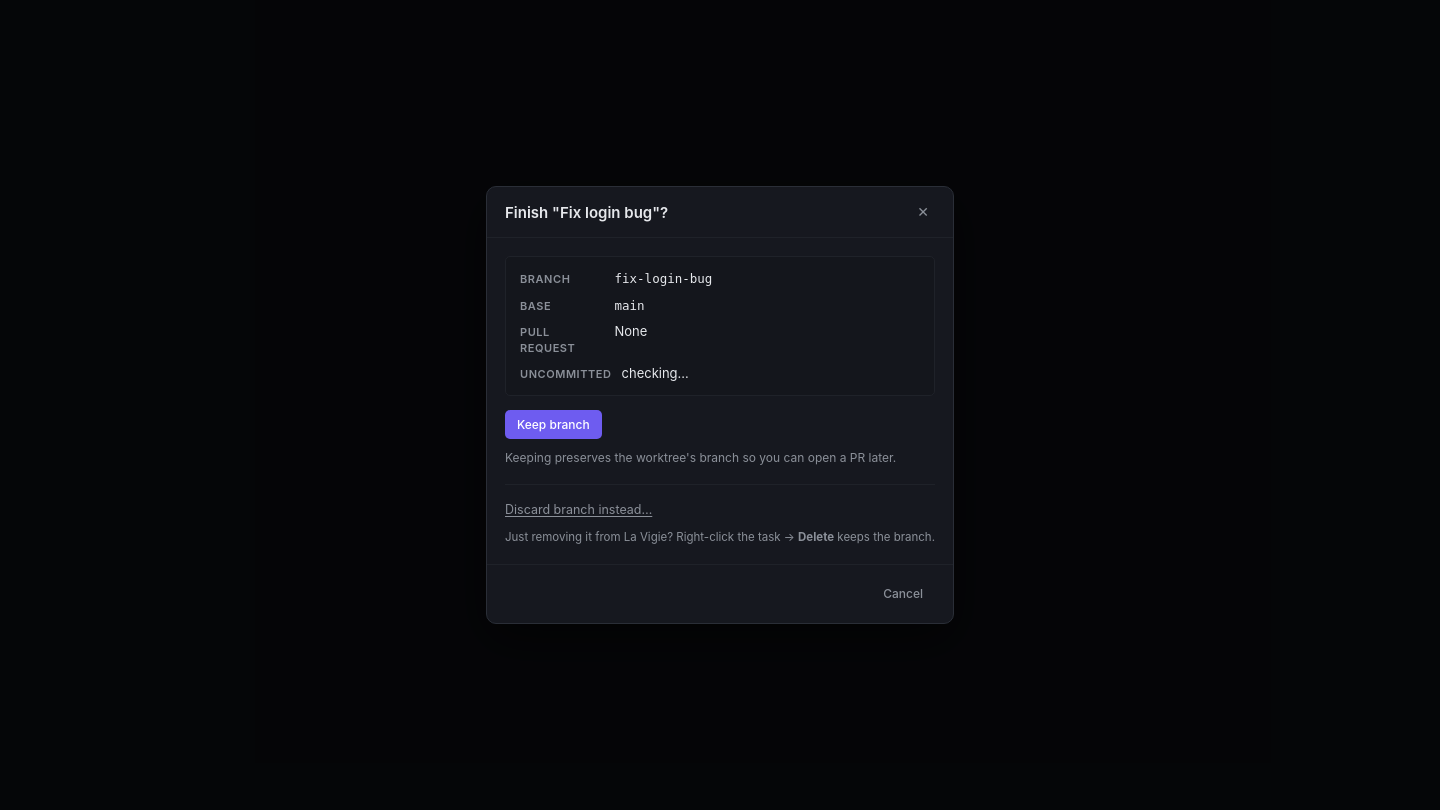
Test: FinishTaskModal — guarded Discard › Back un-arms the confirm without finishing
Step 1. Click the button "Discard branch instead…" → [579, 510], box left=505, top=499, right=652, bottom=521
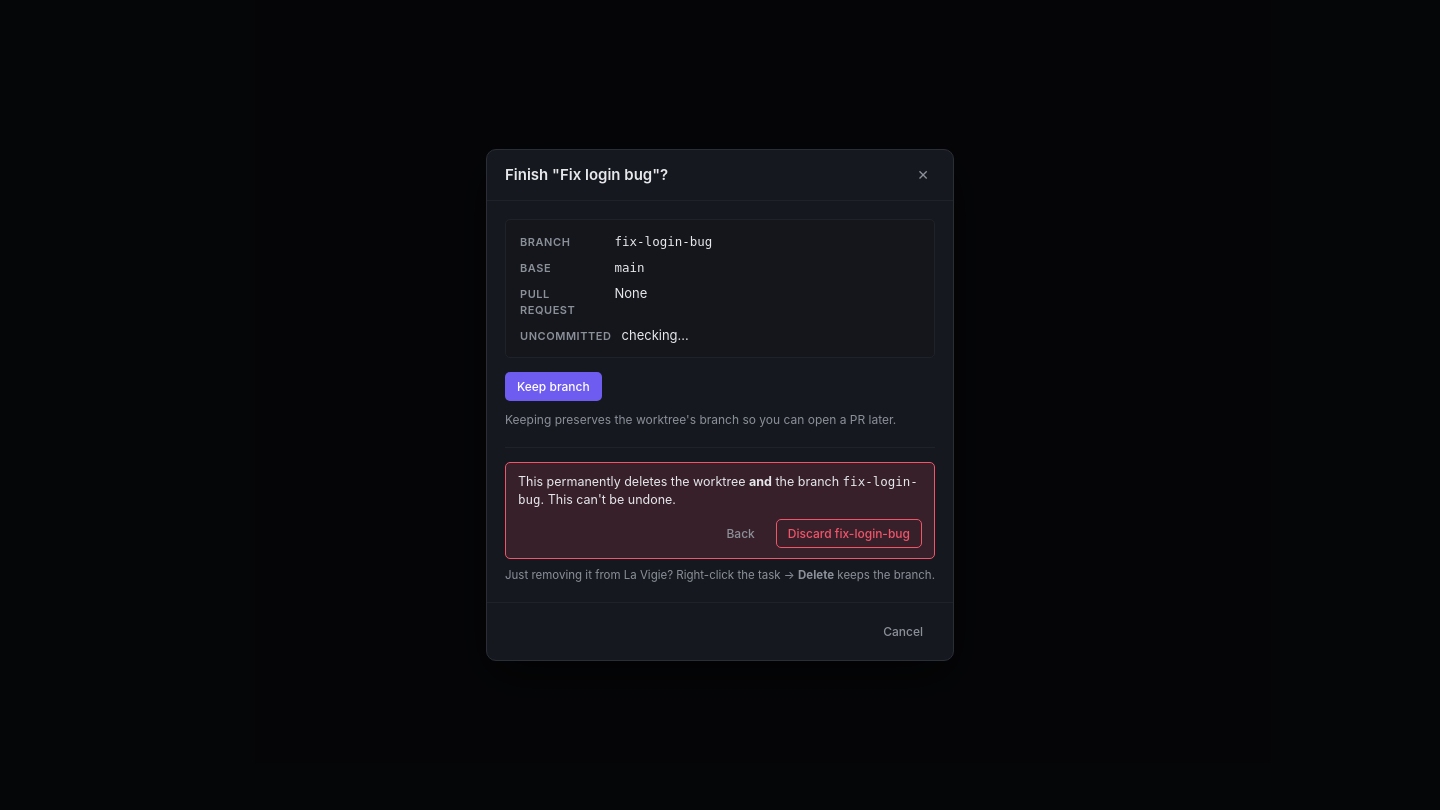
Step 2. Click the button "Back" → [741, 534], box left=714, top=519, right=767, bottom=548
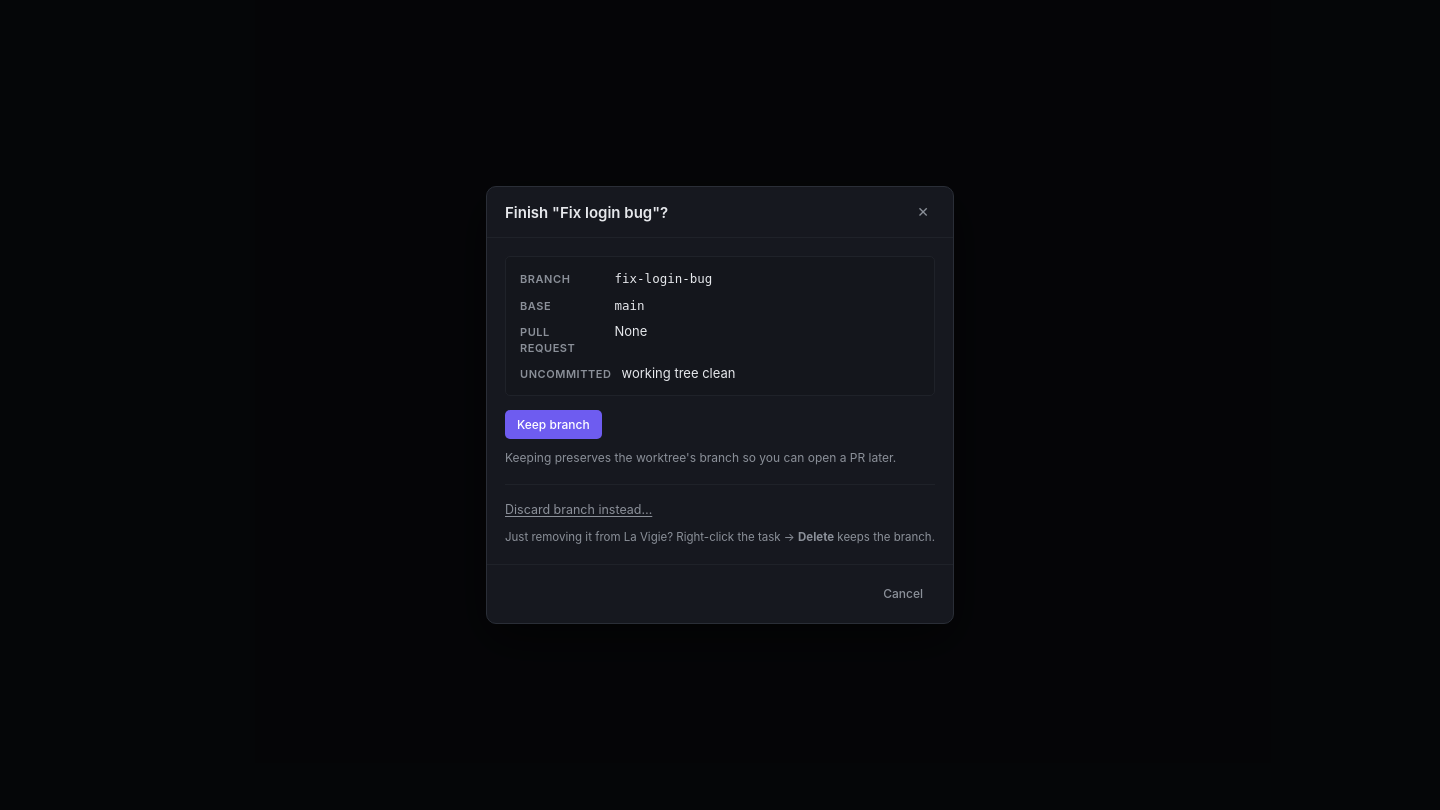
Now the button "Discard fix-login-bug" is gone
